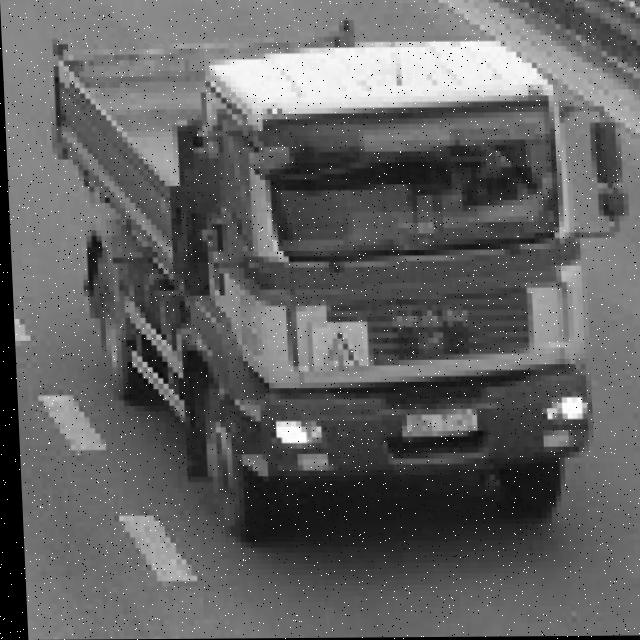truck: (158, 19, 634, 522)
